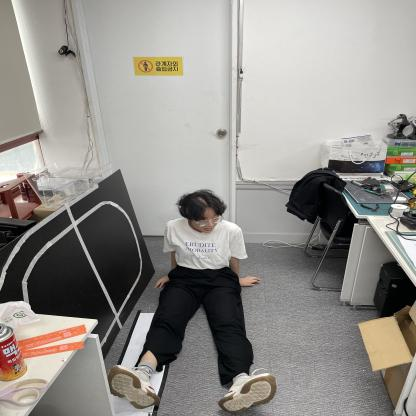fall: (118, 185, 270, 411)
